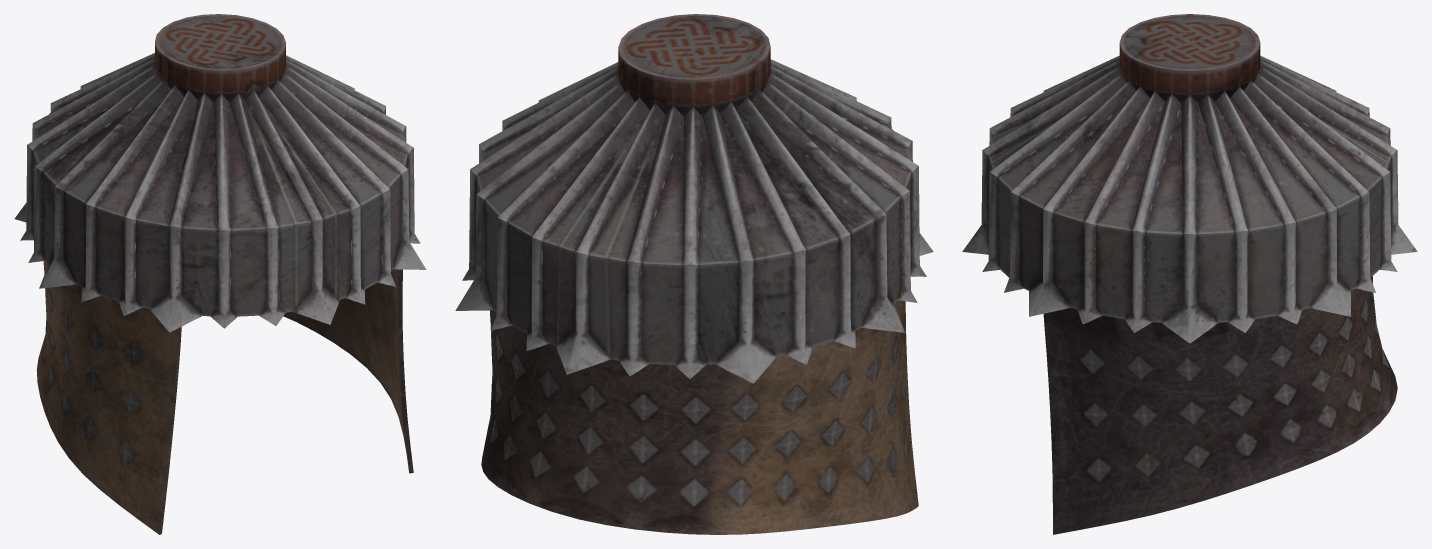
Rendered from sk_dwarf_iron_helmet_light_b1.fbx.
3 views of the same model, side by side, from view 1: azimuth 30°, elevation 25°; view 2: azimuth 150°, elevation 25°; view 3: azimuth 270°, elevation 25° (orthographic). The views are drawn at different scales.
Visible parts, largest first — view 1: sk_dwarf_iron_helmet_light_b1; view 2: sk_dwarf_iron_helmet_light_b1; view 3: sk_dwarf_iron_helmet_light_b1.
Boxes of the visible parts, bbox=[...] form: sk_dwarf_iron_helmet_light_b1: bbox=[14, 14, 426, 534]; sk_dwarf_iron_helmet_light_b1: bbox=[455, 14, 933, 534]; sk_dwarf_iron_helmet_light_b1: bbox=[962, 14, 1417, 534].
Size of the model in its own units: 0.2985 by 0.3131 by 0.325.
Materials: 1 (1 with a texture image).
